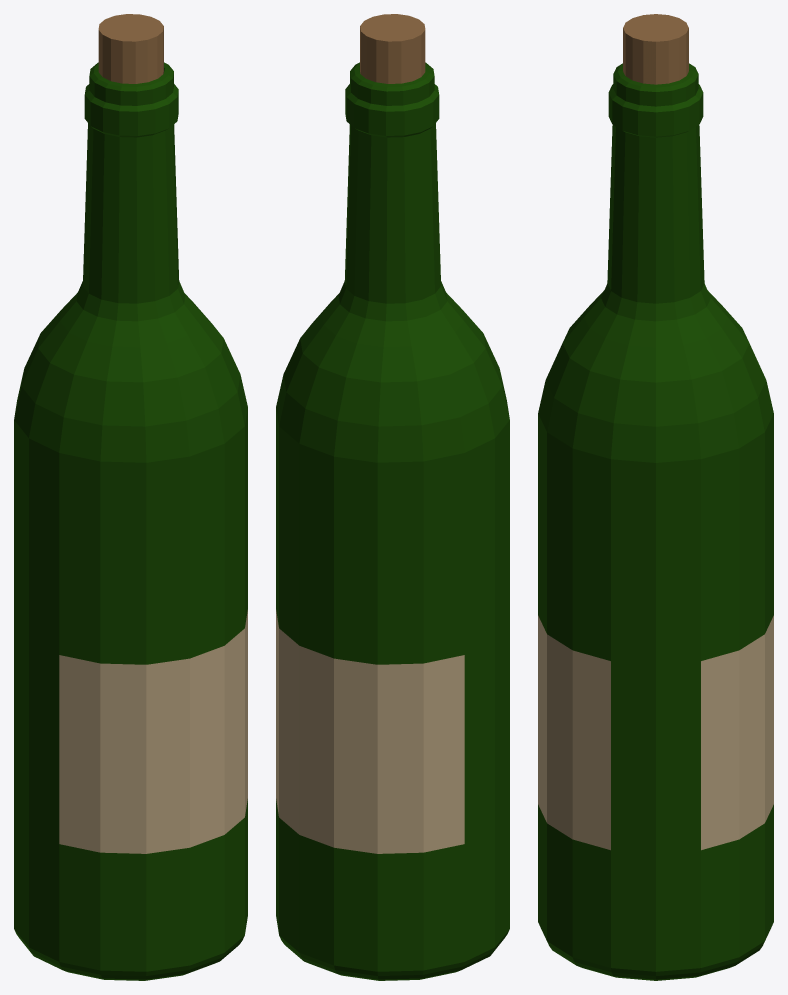
Rendered from Bottle_1.1.fbx.
The picture shows the model from 3 angles, left to right: view 1: azimuth 30°, elevation 25°; view 2: azimuth 150°, elevation 25°; view 3: azimuth 270°, elevation 25°; orthographic projection.
Visible parts, largest first — view 1: Bottle1_Labelled.001, Cork.003; view 2: Bottle1_Labelled.001, Cork.003; view 3: Bottle1_Labelled.001, Cork.003.
Part boxes in pixels (<box>): Bottle1_Labelled.001: <box>14,62,247,980</box>; Cork.003: <box>98,14,163,83</box>; Bottle1_Labelled.001: <box>276,62,509,980</box>; Cork.003: <box>360,14,425,83</box>; Bottle1_Labelled.001: <box>538,63,773,980</box>; Cork.003: <box>623,14,688,84</box>.
Size of the model in its own units: 27.56 by 117 by 27.56.
